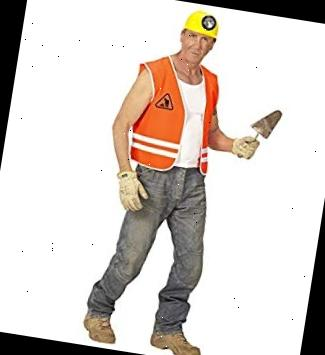helmet: (179, 3, 223, 42)
wear: (127, 55, 220, 176)
